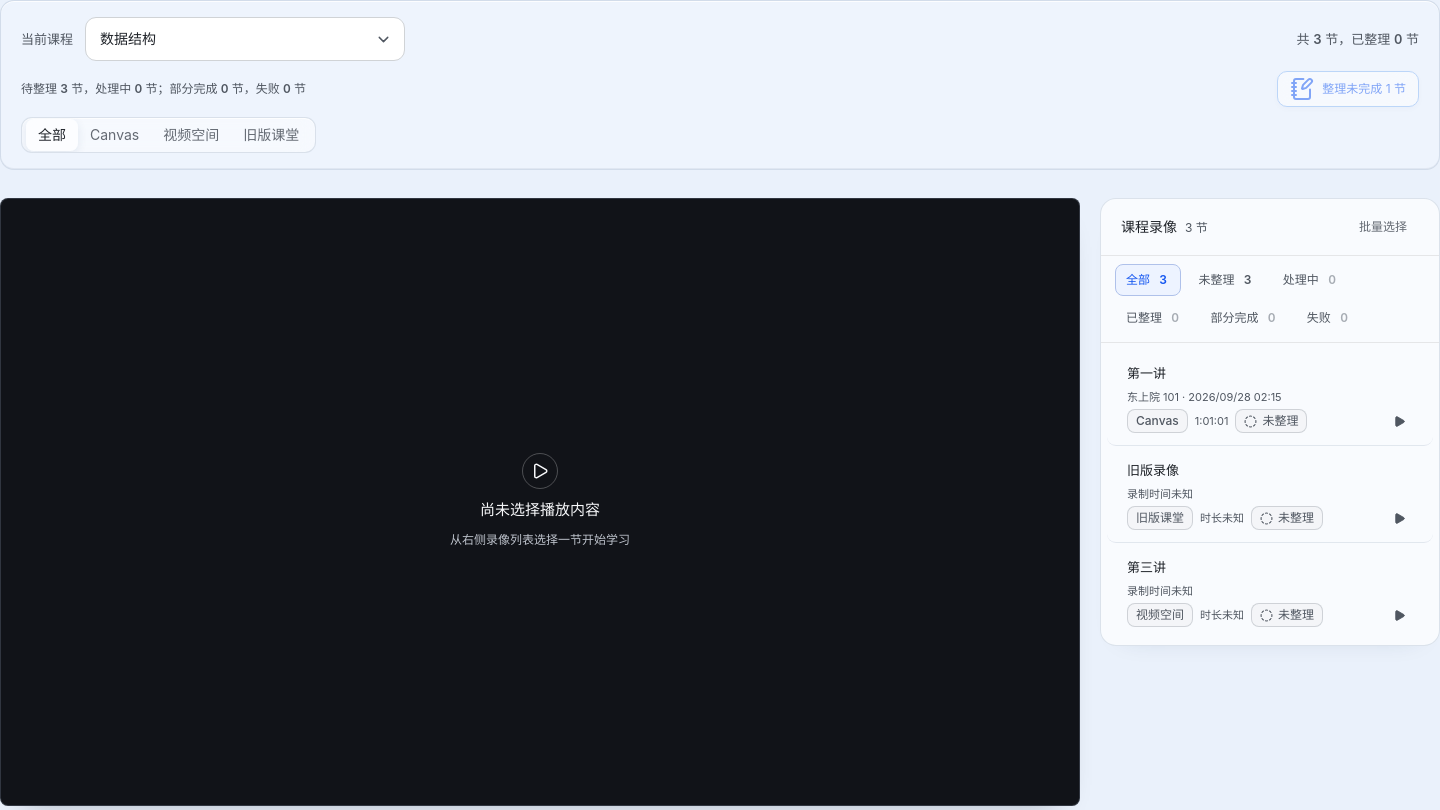
Scenario: VideosView › uses an accessible custom course picker and supports pointer selection
Click the dropdown named "选择课程": [128, 38] box [85,17,405,61]
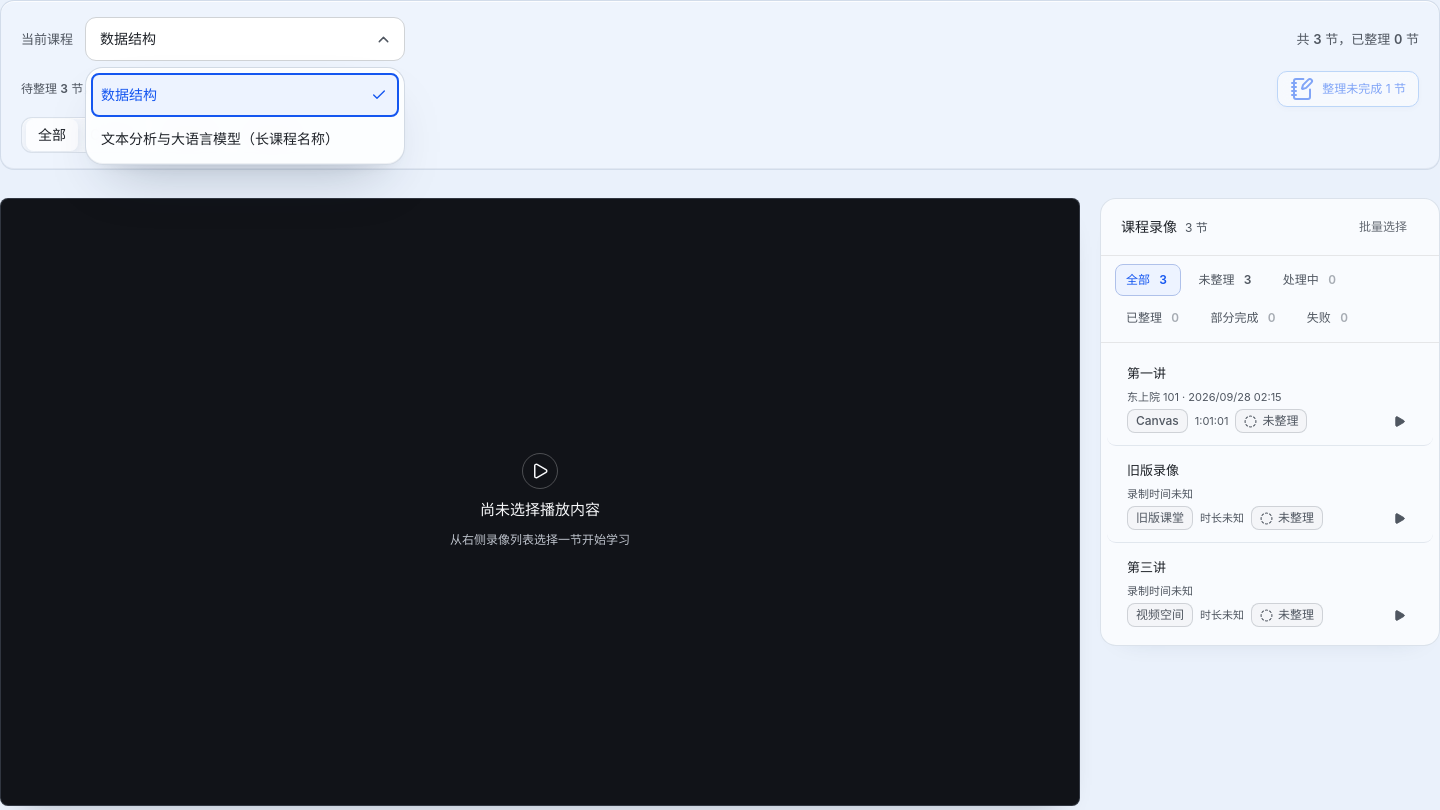
Expected: the dropdown named "选择课程" is expanded, [85,17,405,61]
Click the option "文本分析与大语言模型（长课程名称）": [245, 139] box [91,117,399,161]
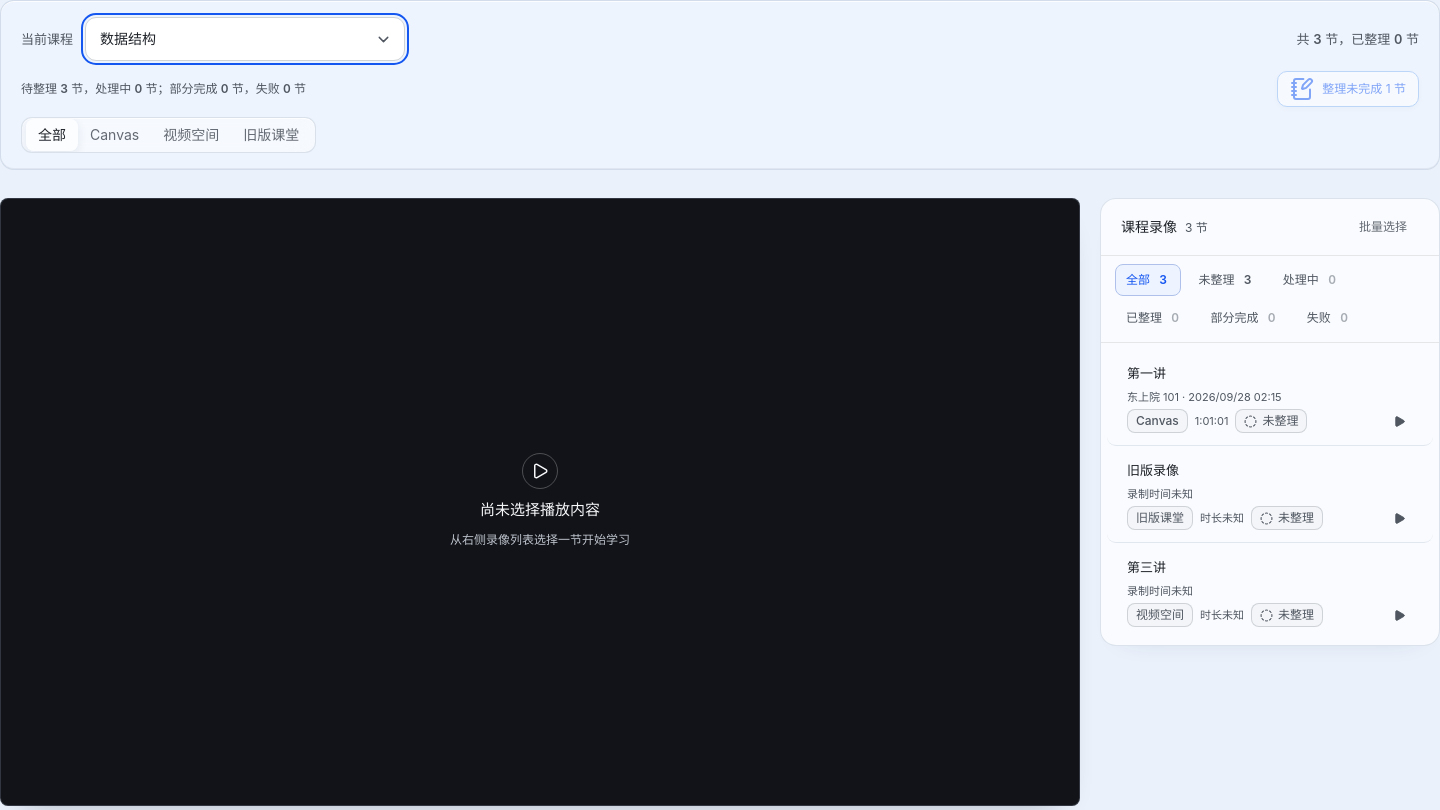
Expected: the dropdown named "选择课程" is collapsed, [85,17,405,61]
